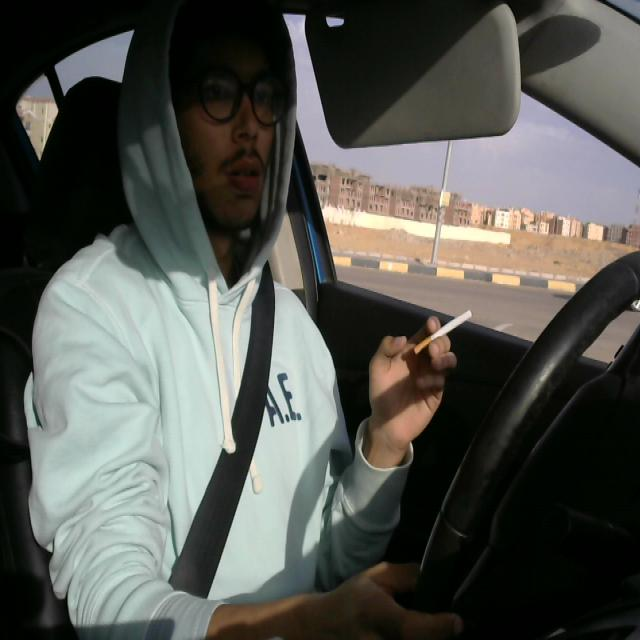smoking: (409, 303, 475, 361)
